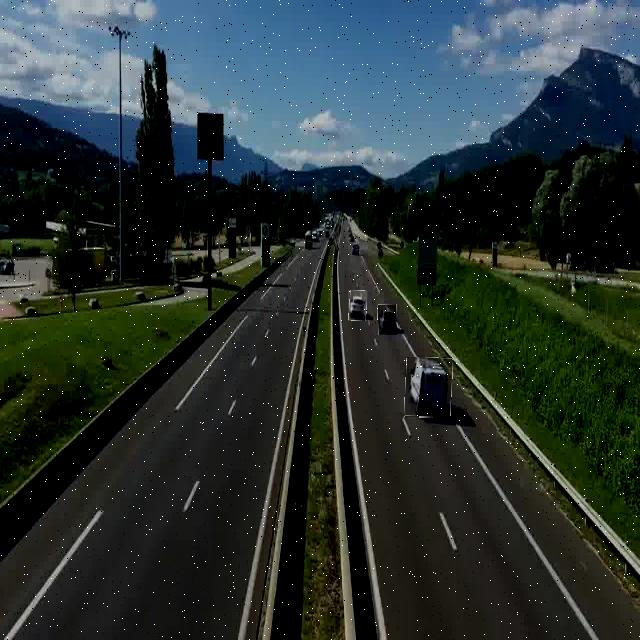Car: (405, 358, 452, 418), (378, 304, 397, 335), (348, 290, 367, 321), (350, 240, 362, 258)
